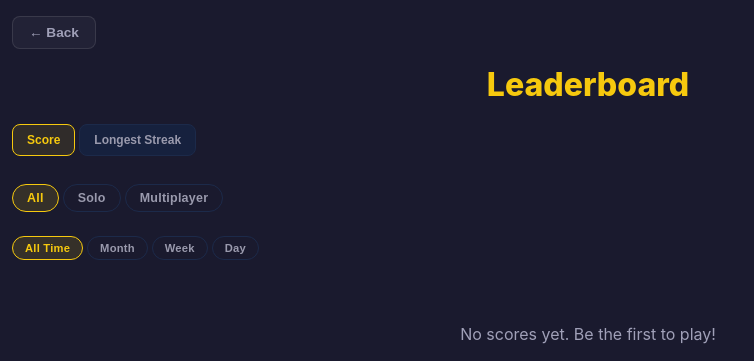
LeaderboardPage › does not show period pills on the Streak tab
The image size is (754, 361).
Check: the tab "All Time" is shown, box 12,236 -> 83,260
Click the tab "Longest Streak".
click(138, 140)  # box 79,124 -> 196,156
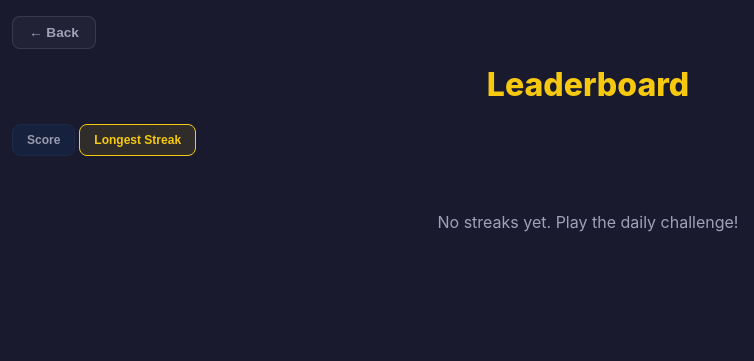
Check: the tab "All Time" is gone
Check: the tab "Week" is gone
